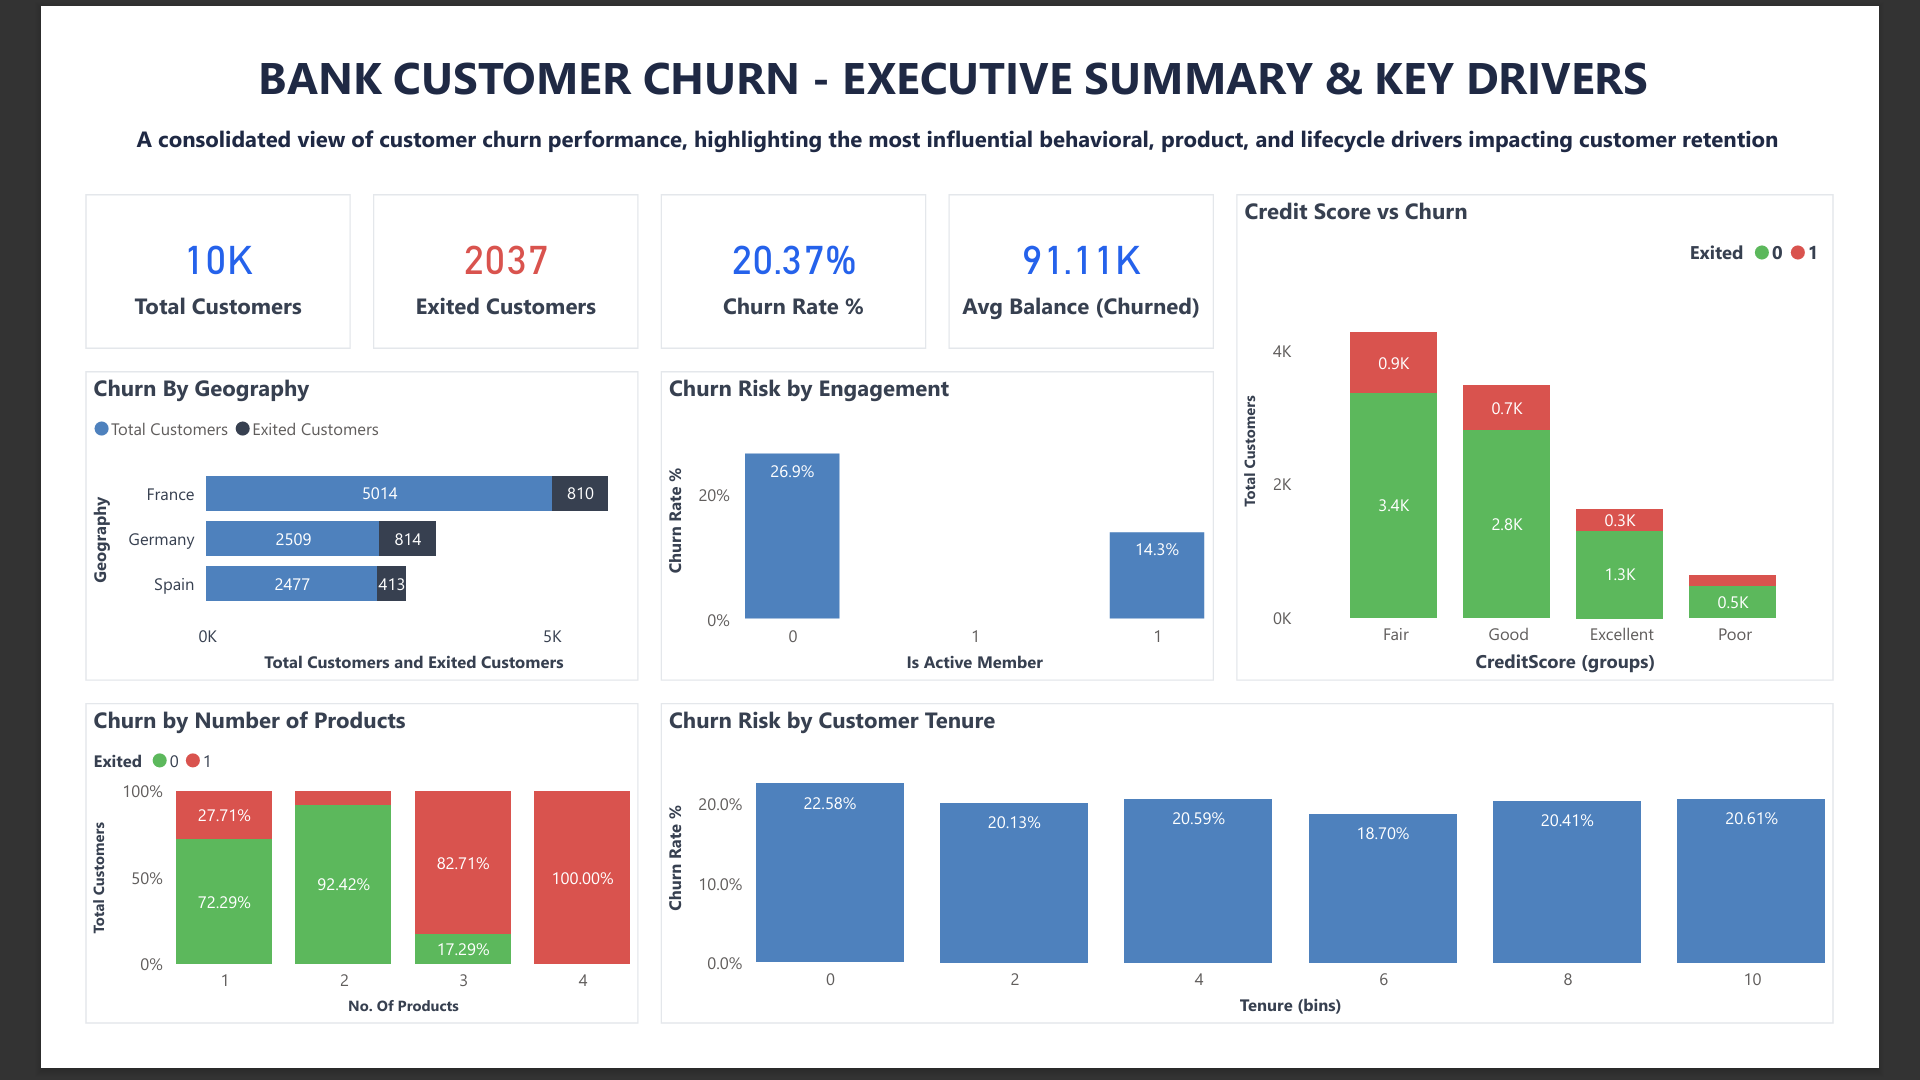

This screenshot's page, from the dashboard's own definition file:
{"tool":"powerbi","page":{"name":"Page 1","canvas":[1280,720],"ordinal":0},"visuals":[{"type":"textbox","box":[128,0,1032,56],"z":0},{"type":"card","fields":{"Values":["Churn_Modelling.Total Customers"]},"box":[8,112,192,112],"z":1000},{"type":"card","fields":{"Values":["Churn_Modelling.Exited Customers"]},"box":[216,112,192,112],"z":2000},{"type":"card","fields":{"Values":["Churn_Modelling.Churn Rate %"]},"box":[424,112,192,112],"z":3000},{"type":"card","fields":{"Values":["Churn_Modelling.Avg Balance (Churned)"]},"box":[632,112,192,112],"z":4000},{"type":"textbox","box":[40,56,1200,40],"z":5000},{"type":"barChart","title":"Churn By Geography","fields":{"Category":["Churn_Modelling.Geography"],"Y":["Churn_Modelling.Total Customers","Churn_Modelling.Exited Customers"]},"box":[8,240,400,224],"z":6000},{"type":"hundredPercentStackedColumnChart","title":"Churn by Number of Products","fields":{"Category":["Churn_Modelling.NumOfProducts"],"Y":["Churn_Modelling.Total Customers"],"Series":["Churn_Modelling.Exited"]},"box":[8,480,400,232],"z":7000},{"type":"clusteredColumnChart","title":"Churn Risk by Engagement","fields":{"Category":["Churn_Modelling.IsActiveMember"],"Y":["Churn_Modelling.Churn Rate %"]},"box":[424,240,400,224],"z":8000},{"type":"clusteredColumnChart","title":"Churn Risk by Customer Tenure","fields":{"Category":["Churn_Modelling.Tenure (bins)"],"Y":["Churn_Modelling.Churn Rate %"]},"box":[424,480,848,232],"z":9000},{"type":"columnChart","title":"Credit Score vs Churn","fields":{"Category":["Churn_Modelling.CreditScore (groups)"],"Y":["Churn_Modelling.Total Customers"],"Series":["Churn_Modelling.Exited"]},"box":[840,112,432,352],"z":10000}]}

Visuals, with their boxes in screenshot pixels (x1, y1, x2, y2), scaled from the page's 1280x720 canvas onto the 1920x1080 screenshot:
textbox: crop(192, 0, 1740, 84)
card - Churn_Modelling.Total Customers: crop(12, 168, 300, 336)
card - Churn_Modelling.Exited Customers: crop(324, 168, 612, 336)
card - Churn_Modelling.Churn Rate %: crop(636, 168, 924, 336)
card - Churn_Modelling.Avg Balance (Churned): crop(948, 168, 1236, 336)
textbox: crop(60, 84, 1860, 144)
"Churn By Geography" barChart: crop(12, 360, 612, 696)
"Churn by Number of Products" hundredPercentStackedColumnChart: crop(12, 720, 612, 1068)
"Churn Risk by Engagement" clusteredColumnChart: crop(636, 360, 1236, 696)
"Churn Risk by Customer Tenure" clusteredColumnChart: crop(636, 720, 1908, 1068)
"Credit Score vs Churn" columnChart: crop(1260, 168, 1908, 696)
